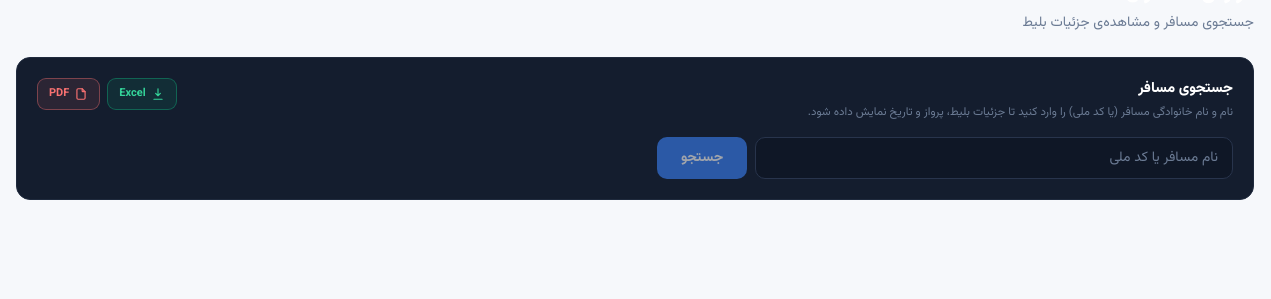
Scenario: PassengerReportsPage › shows the design no-result state
The image size is (1271, 299).
Step 1. Type "ناموجود" into the field with placeholder "نام مسافر یا کد ملی" → (994, 158), box left=755, top=137, right=1233, bottom=179
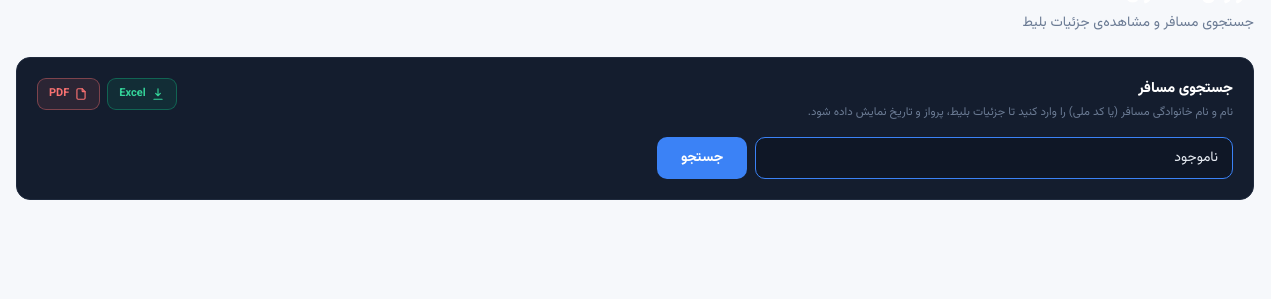
Step 2. Click the button "جستجو" → (702, 158), box left=657, top=137, right=747, bottom=179
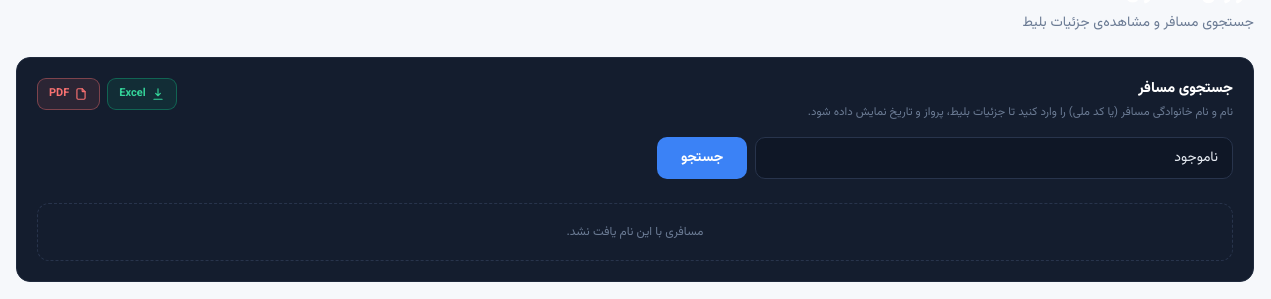
expect the text "مسافری با این نام یافت نشد." is shown: met, box left=37, top=203, right=1233, bottom=261
